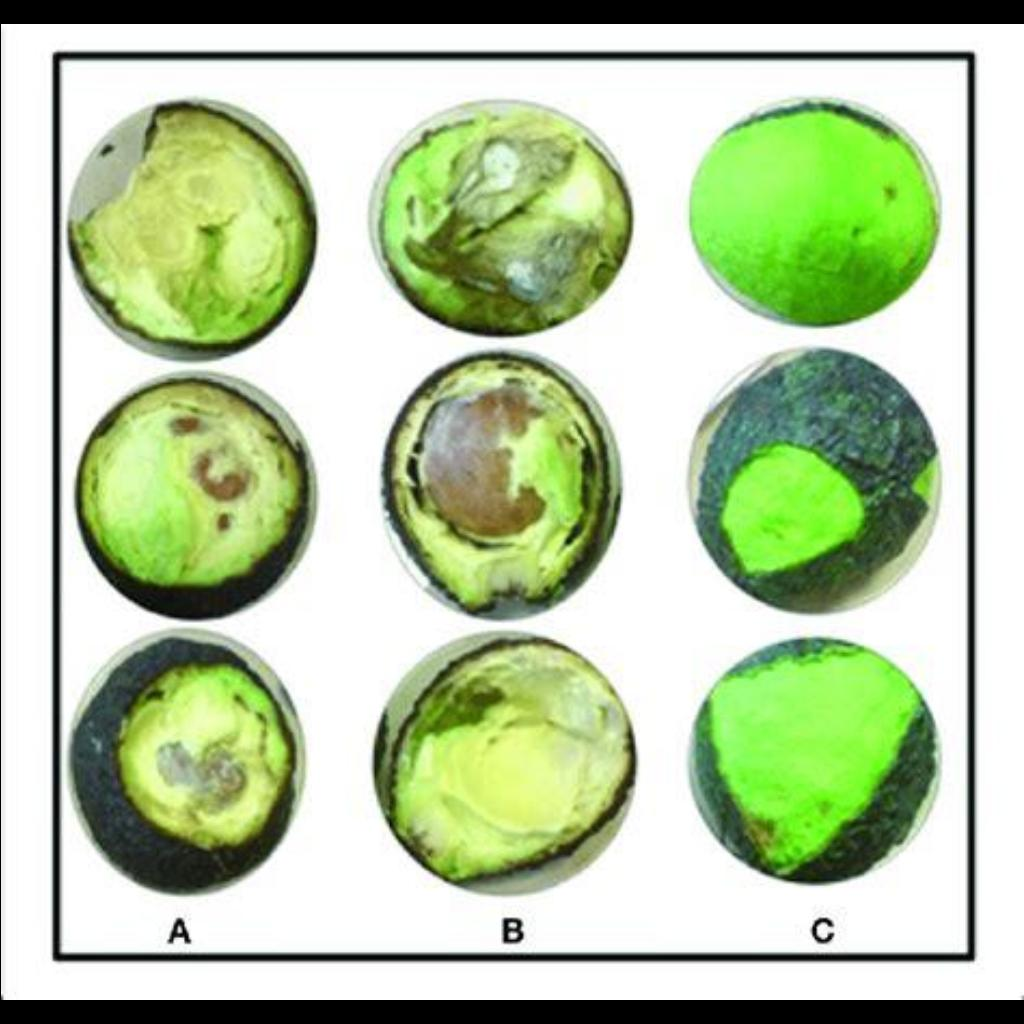antracnosis_fruto: (360, 363, 621, 629), (348, 115, 646, 319)
